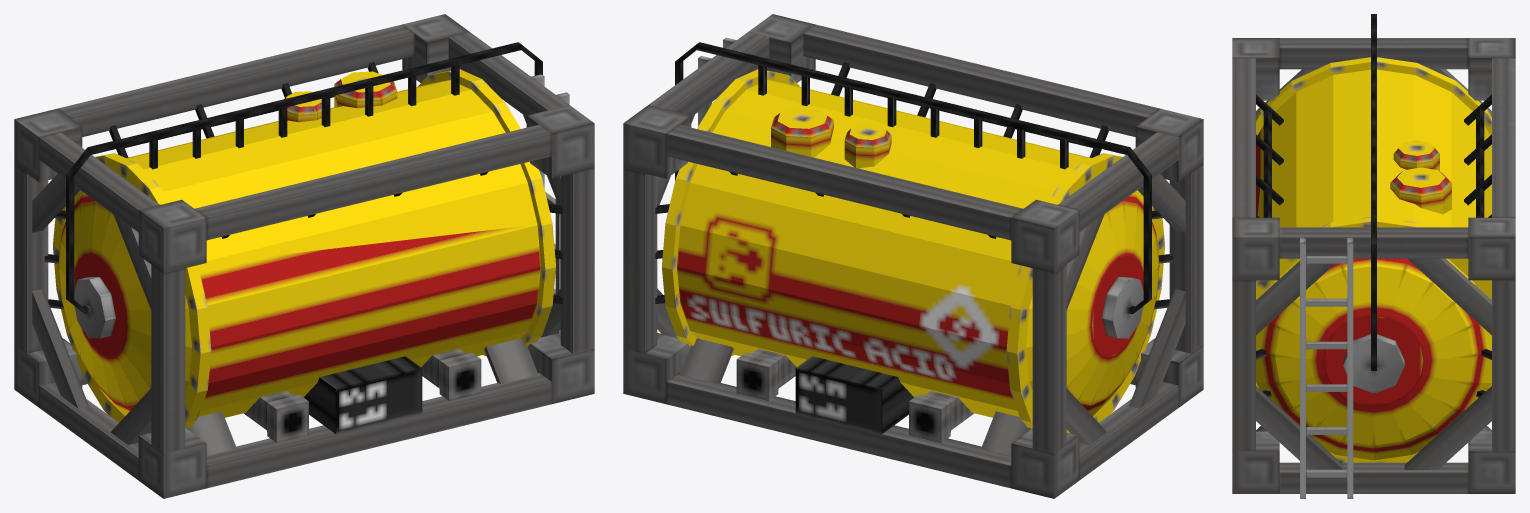
Rendered from tank_sulfuric_acid.obj.
3 views of the same model, side by side, from view 1: azimuth 30°, elevation 25°; view 2: azimuth 150°, elevation 25°; view 3: azimuth 270°, elevation 25° (orthographic). The views are drawn at different scales.
Parts seen in each view (by area): view 1: Frame; view 2: Frame; view 3: Frame.
Part boxes in pixels (x1,y1,x2,y2): Frame: [14, 14, 594, 498]; Frame: [623, 14, 1203, 498]; Frame: [1232, 14, 1515, 498].
Size of the model in its own units: 5.5 by 3.28 by 3.
